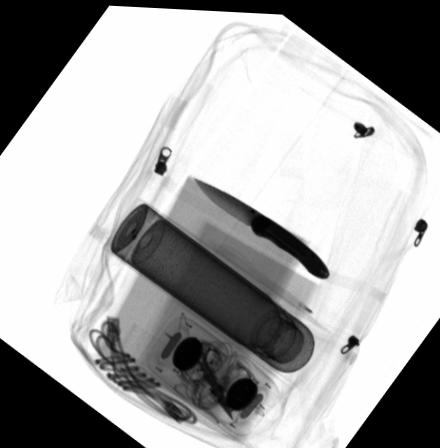Knife: (192, 175, 330, 275)
Scissors: (177, 342, 234, 418)
